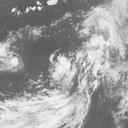cyclone: (47, 51, 82, 94)
